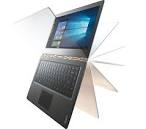laptop: (26, 2, 103, 117)
